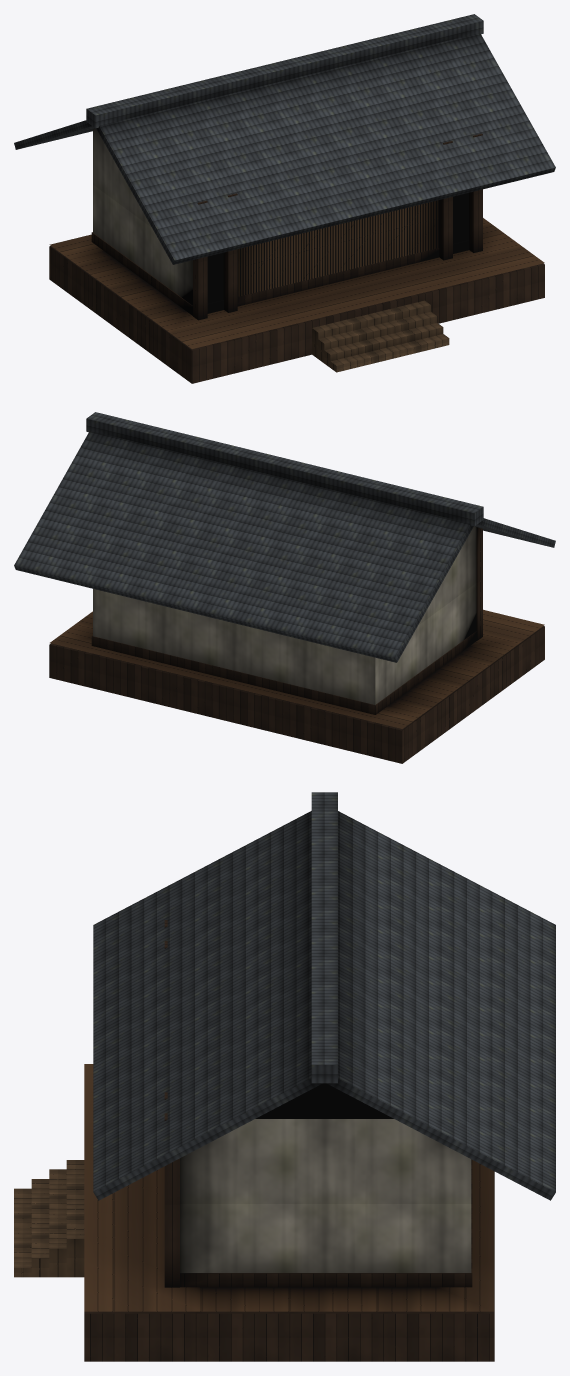
The model's file is haiden.glb.
3 views of the same model, one above another, from view 1: azimuth 30°, elevation 25°; view 2: azimuth 150°, elevation 25°; view 3: azimuth 270°, elevation 25° (orthographic). The views are drawn at different scales.
Visible parts, largest first — view 1: haiden; view 2: haiden; view 3: haiden.
Part boxes in pixels (box(x1,y1,x2,y2)): haiden: box(14, 14, 555, 383); haiden: box(14, 412, 555, 763); haiden: box(14, 792, 555, 1361).
Bounding box in the file's own units: 11 × 5.82 × 9.24.
Materials: 7 (7 with a texture image).
